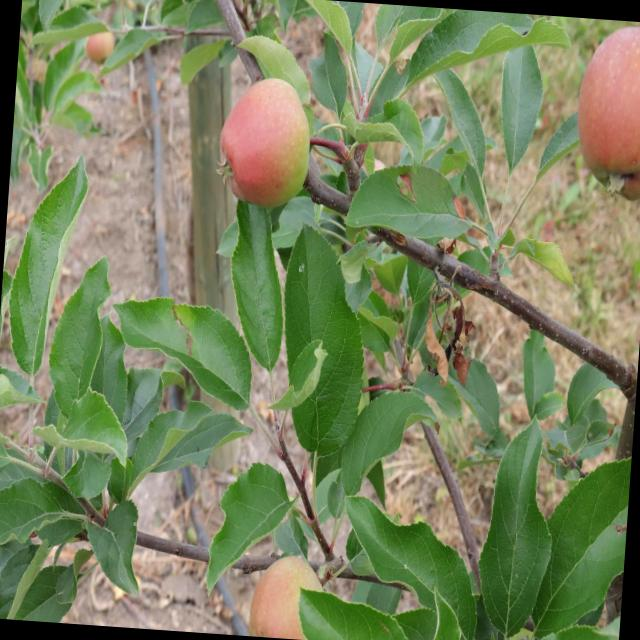-FireBlight-: (356, 263, 486, 389)
